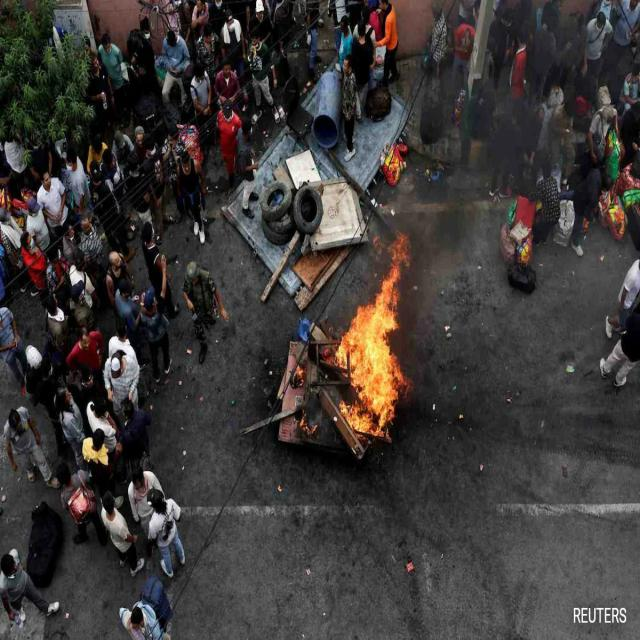fire: (336, 230, 411, 440)
